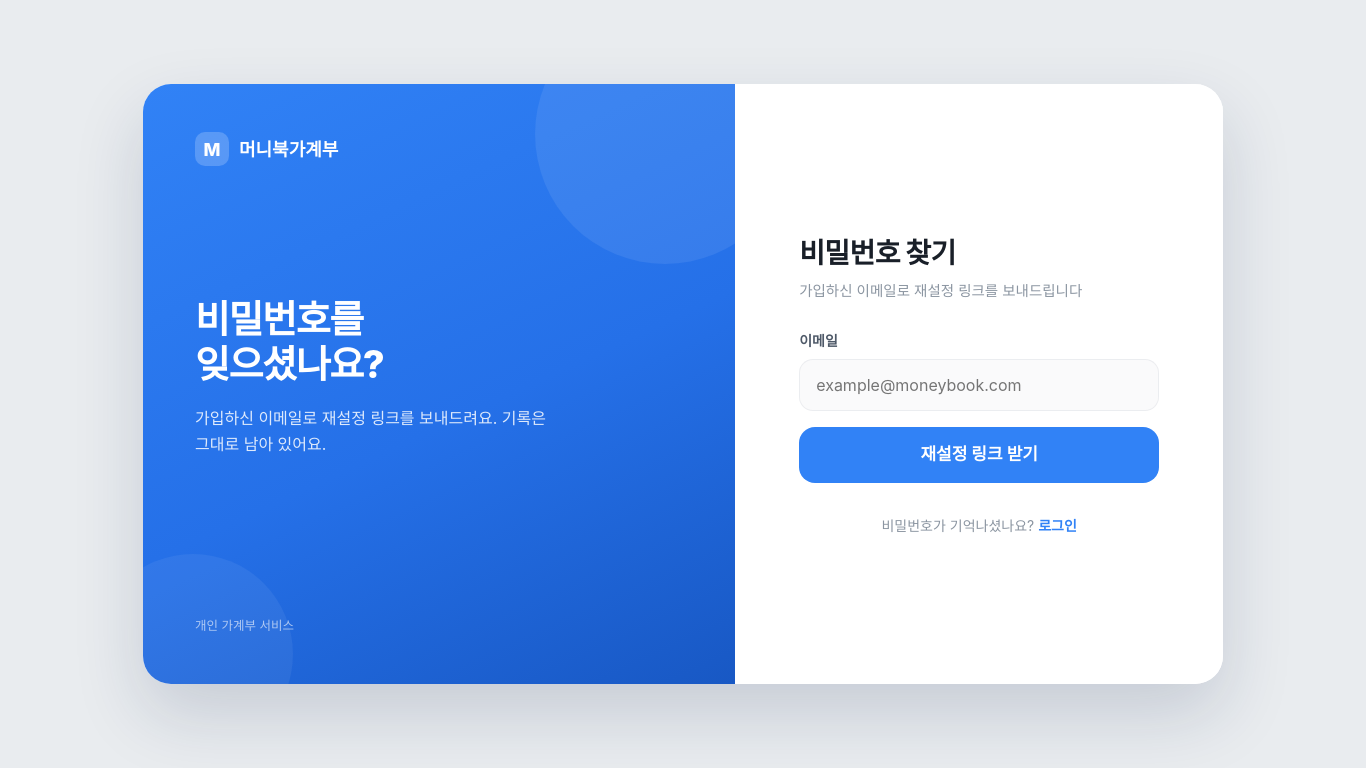
ForgotPasswordPage › does not send a mail when the email field is empty
This screenshot has width=1366, height=768.
Click the button "재설정 링크 받기" at (979, 455), box top-left (799, 427), bottom-right (1159, 483)
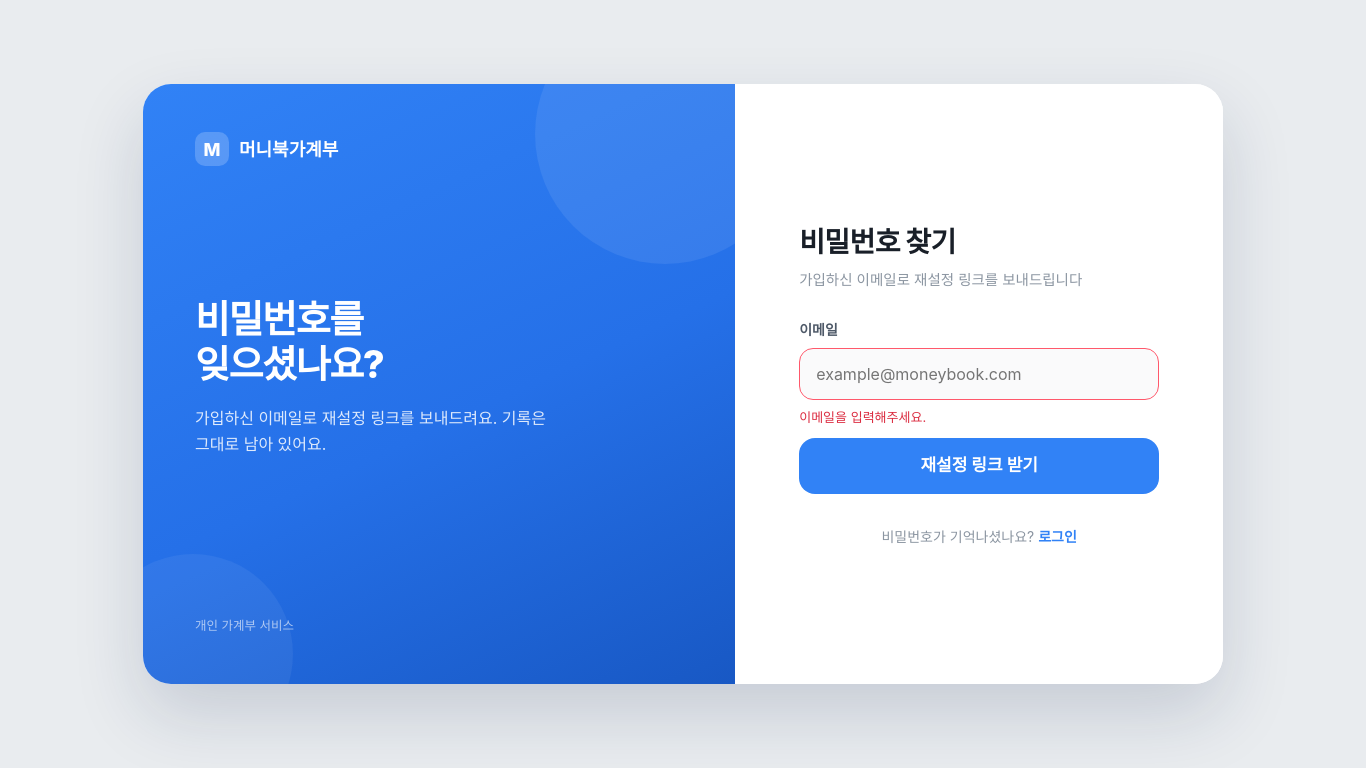
Expected: the text "이메일을 입력해주세요." is shown, top-left (799, 409), bottom-right (926, 425)
